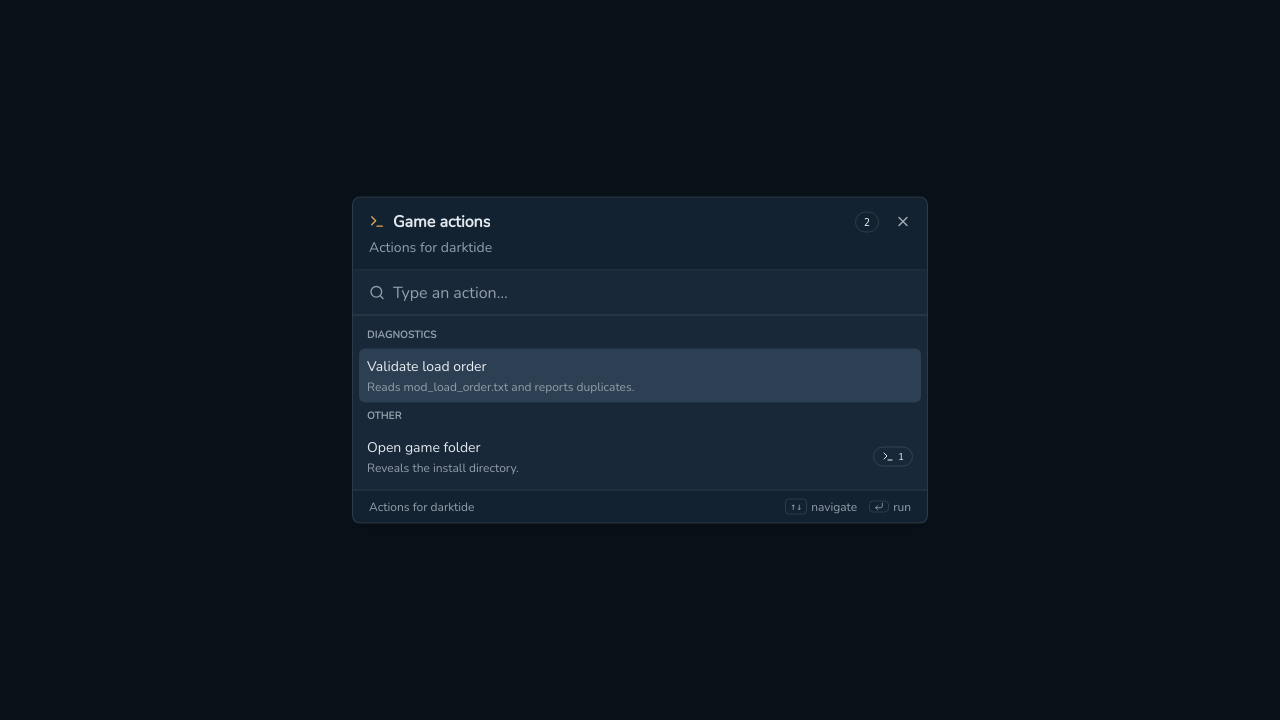
action surfaces › narrows the list to what the typed word appears in
Type "duplicates" into the dropdown with placeholder "Type an action…" at (652, 292), box [393, 270, 911, 314]
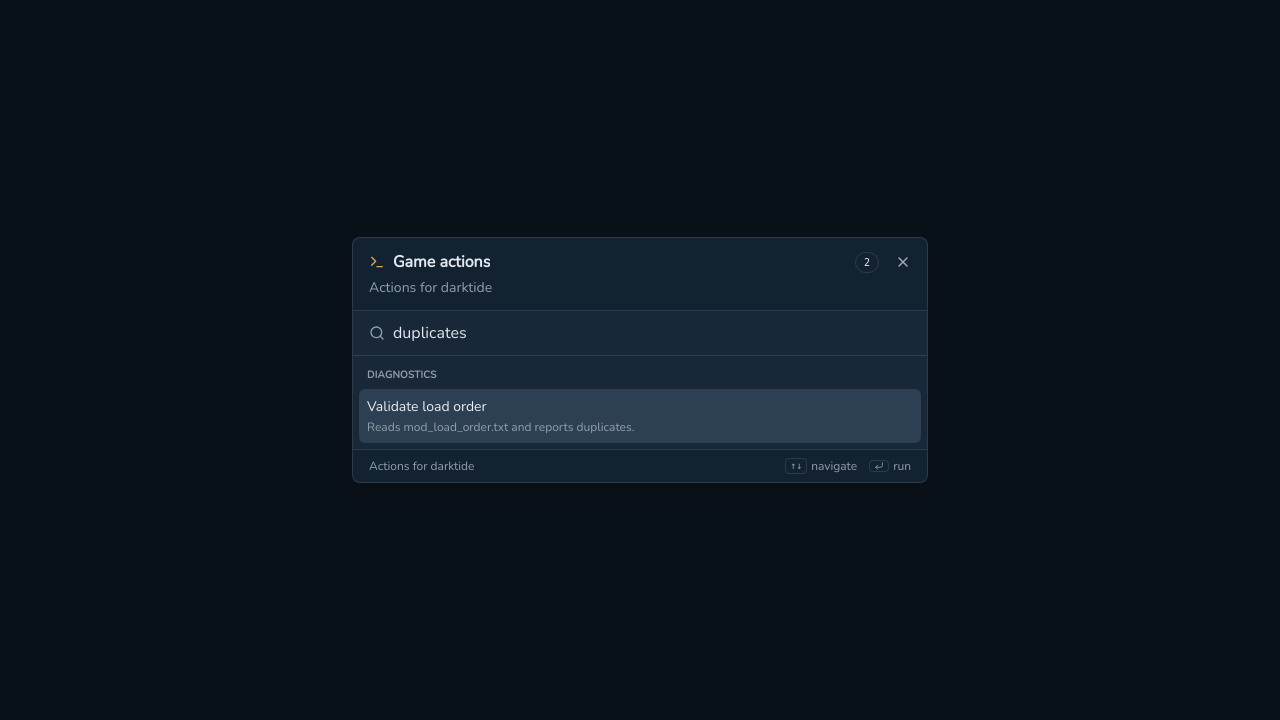
Expected: the text "Validate load order" is shown, [367, 397, 486, 416]
Result: the option "Open game folder" is gone
